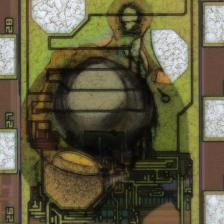COATING BAD: (2, 1, 200, 224)
